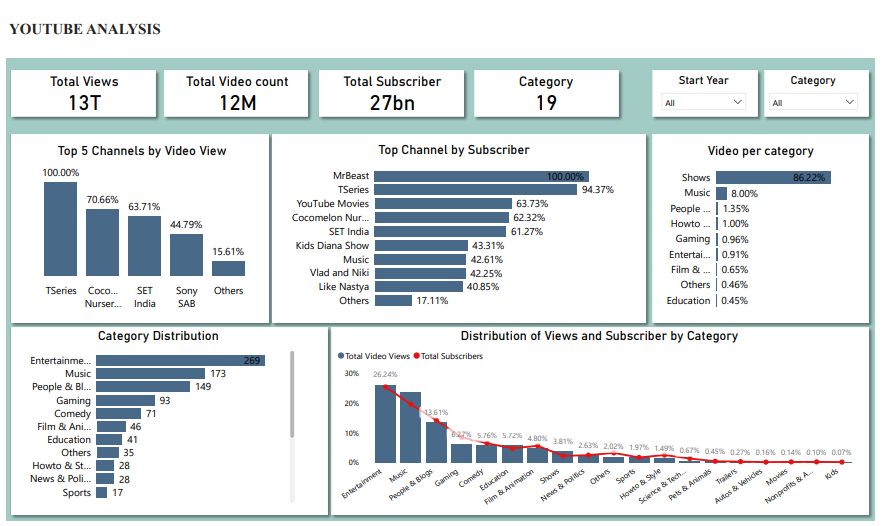

This screenshot's page, from the dashboard's own definition file:
{"tool":"powerbi","page":{"name":" 1st Dashboard","canvas":[1280,720],"ordinal":0},"visuals":[{"type":"clusteredColumnChart","title":"Top 5 Channels by Video View","fields":{"Category":["Top Youtubers Dataset - Copy.Youtubers"],"Y":["Top Youtubers Dataset - Copy.Video Views"]},"box":[31.2,149,301,259.4],"z":0},{"type":"clusteredBarChart","title":"Top Channel by Subscriber","fields":{"Category":["Top Youtubers Dataset - Copy.Youtubers"],"Y":["Top Youtubers Dataset - Copy.Subscribers"]},"box":[353.1,145.8,557.3,270.8],"z":1000},{"type":"clusteredBarChart","title":"Video per category","fields":{"Category":["Top Youtubers Dataset - Copy.Category"],"Y":["Divide(Sum(Top Youtubers Dataset - Copy.Video Count), ScopedEval(Sum(Top Youtubers Dataset - Copy.Video Count), []))"]},"box":[925,160.4,330.2,259.4],"z":2000},{"type":"card","title":"Total Views","fields":{"Values":["Top Youtubers Dataset - Copy.Video Views"]},"box":[268.6,53.5,168.9,79.8],"z":3000},{"type":"card","title":"Total Subscriber","fields":{"Values":["Top Youtubers Dataset - Copy.Subscribers"]},"box":[672.6,53.5,186.8,79.8],"z":4000},{"type":"card","title":"Total Video count","fields":{"Values":["Top Youtubers Dataset - Copy.Video Count"]},"box":[463.8,53.5,192,79.8],"z":5000},{"type":"card","title":"Category","fields":{"Values":["Top Youtubers Dataset - Copy.Category"]},"box":[869.9,53.5,175.2,79.8],"z":6000},{"type":"lineClusteredColumnComboChart","title":"Distribution of Views and Subscriber by Category","fields":{"Y":["Top Youtubers Dataset - Copy.Video Views"],"Y2":["Top Youtubers Dataset - Copy.Subscribers"],"Category":["Top Youtubers Dataset - Copy.Category"]},"box":[432,420,823,295],"z":7000},{"type":"clusteredBarChart","title":"Category Distribution","fields":{"Category":["Top Youtubers Dataset - Copy.Category"],"Y":["Top Youtubers Dataset - Copy.Youtubers"]},"box":[38.4,424.5,369.2,283],"z":8000},{"type":"slicer","fields":{"Values":["Top Youtubers Dataset - Copy.Started"]},"box":[1079.2,87.5,164.6,72.9],"z":9000},{"type":"slicer","fields":{"Values":["Top Youtubers Dataset - Copy.Category"]},"box":[1079.2,16.7,151,70.8],"z":10000},{"type":"textbox","box":[21.6,9.4,240.9,58.1],"z":11000}]}

Visuals, with their boxes on the page's 1280x720 design canvas (x1, y1, x2, y2). These are canvas units, not pixel positions in the 887x526 screenshot, which may show the page scaled, cropped or inside an application window:
"Top 5 Channels by Video View" clusteredColumnChart: left=31, top=149, right=332, bottom=408
"Top Channel by Subscriber" clusteredBarChart: left=353, top=146, right=910, bottom=417
"Video per category" clusteredBarChart: left=925, top=160, right=1255, bottom=420
"Total Views" card: left=269, top=54, right=438, bottom=133
"Total Subscriber" card: left=673, top=54, right=859, bottom=133
"Total Video count" card: left=464, top=54, right=656, bottom=133
"Category" card: left=870, top=54, right=1045, bottom=133
"Distribution of Views and Subscriber by Category" lineClusteredColumnComboChart: left=432, top=420, right=1255, bottom=715
"Category Distribution" clusteredBarChart: left=38, top=424, right=408, bottom=708
slicer - Top Youtubers Dataset - Copy.Started: left=1079, top=88, right=1244, bottom=160
slicer - Top Youtubers Dataset - Copy.Category: left=1079, top=17, right=1230, bottom=88
textbox: left=22, top=9, right=262, bottom=68
